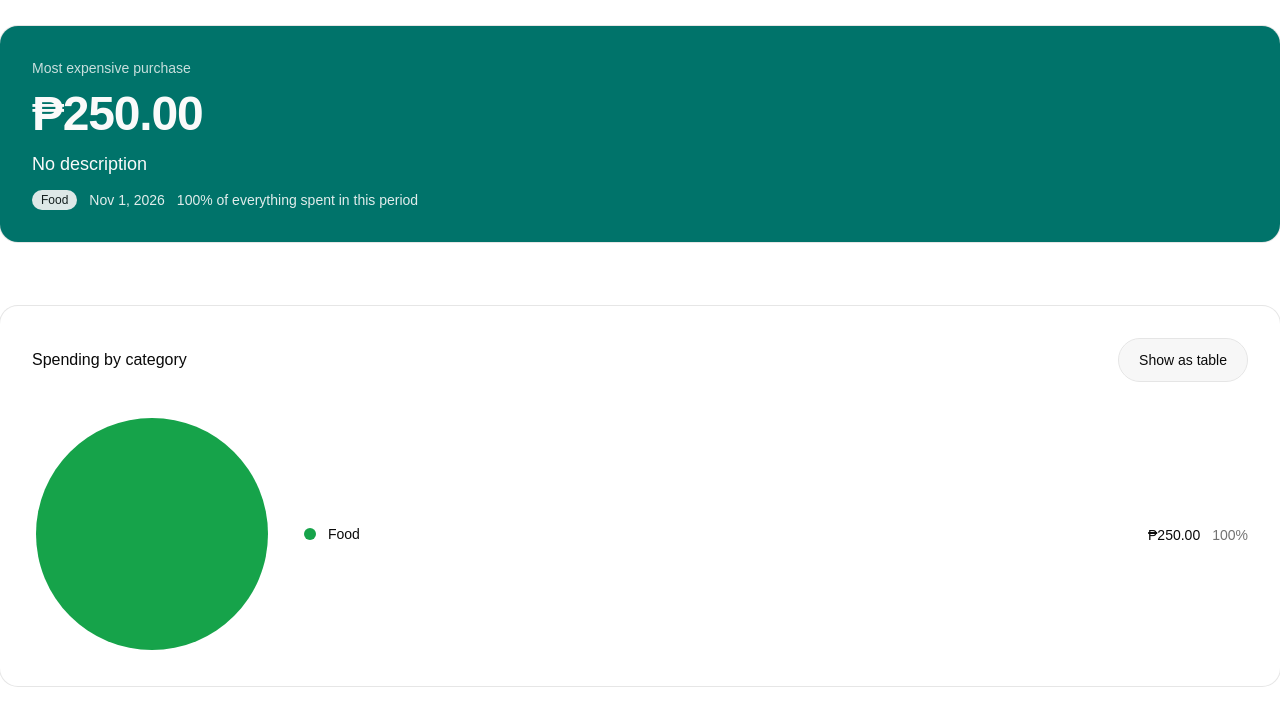
Test: Dashboard › "Show as table" swaps the pie for a table with the same numbers, and back
(page scrolled)
Step 1. Click the button "Show as table" → (1183, 360), box [1118,338,1248,382]
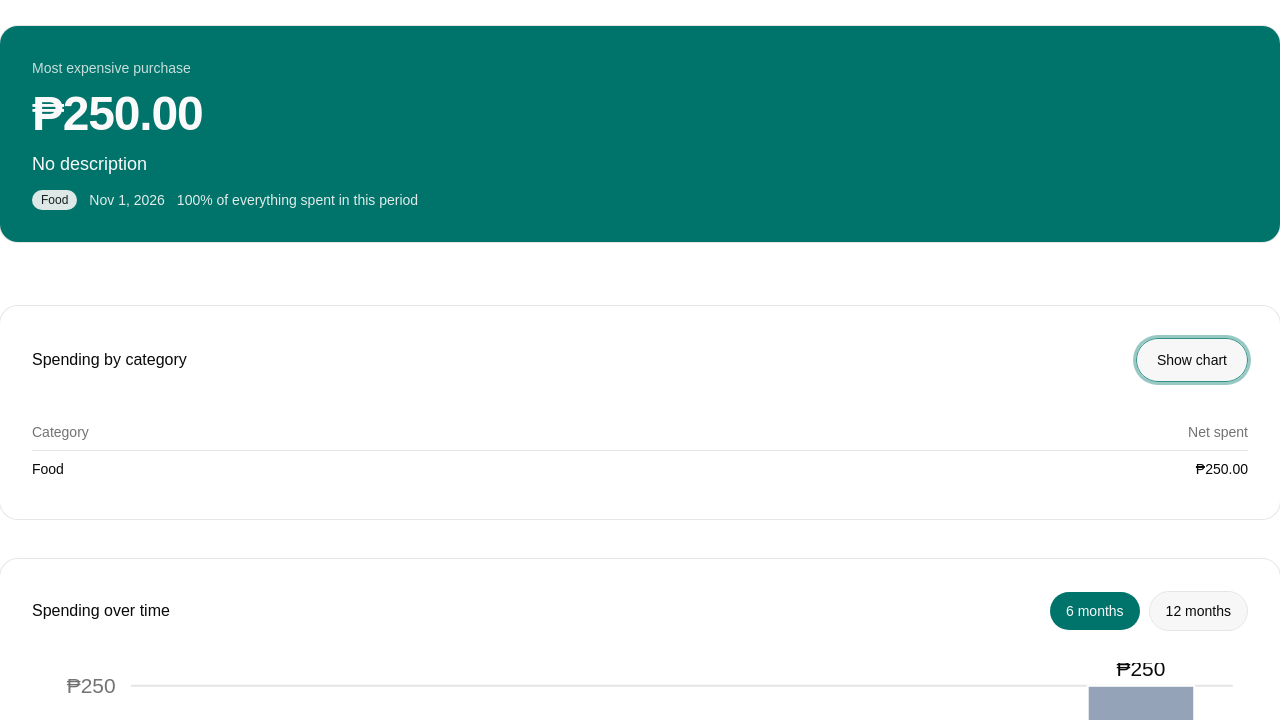
expect the row "Food ₱250.00" is shown: met, box [32,451,1248,487]
Step 2. Click the button "Show chart" → (1192, 360), box [1136,338,1248,382]
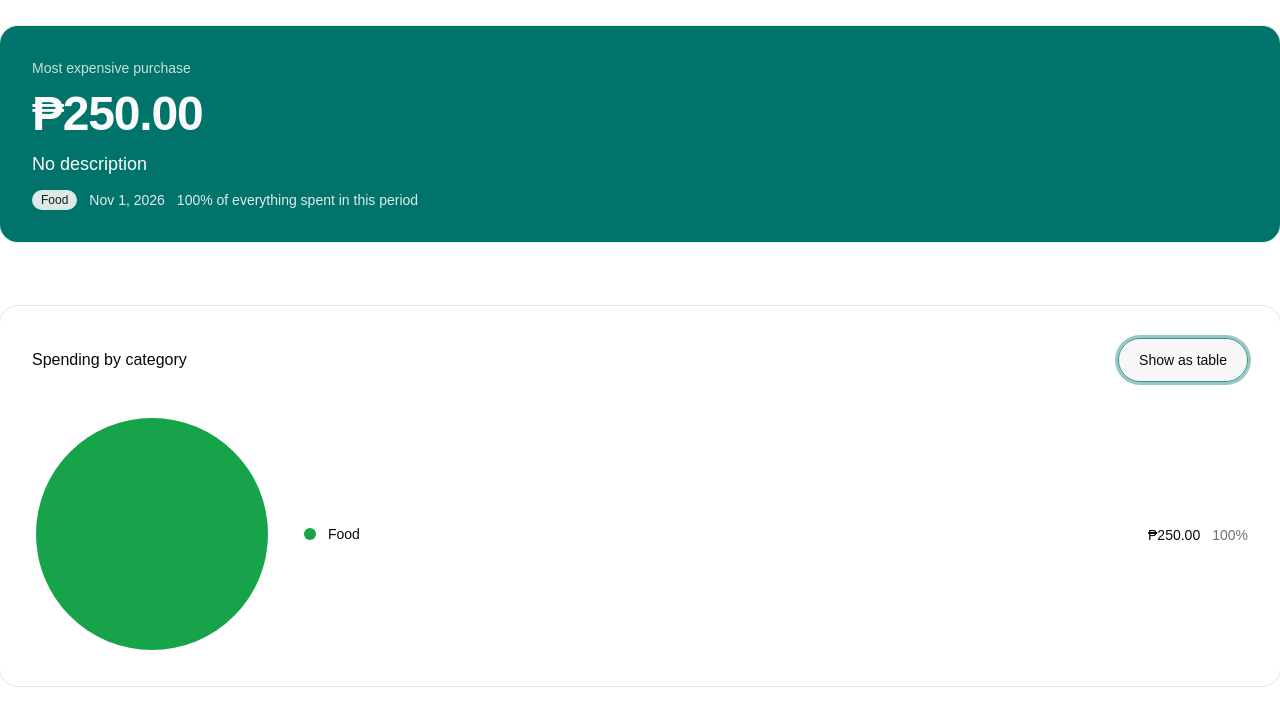
expect the picture named "Spending by category" is shown: met, box [32,414,272,654]
